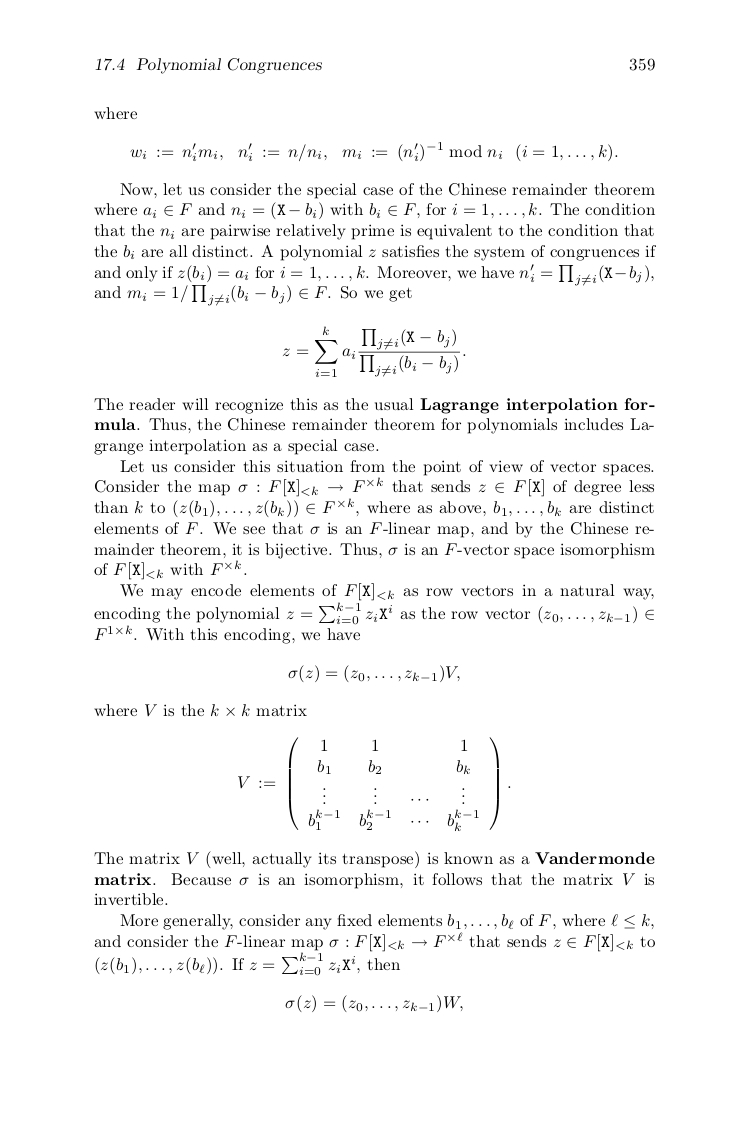formula: (238, 736, 510, 831), (130, 141, 617, 162), (282, 325, 465, 377), (285, 994, 462, 1013), (288, 664, 459, 683)
